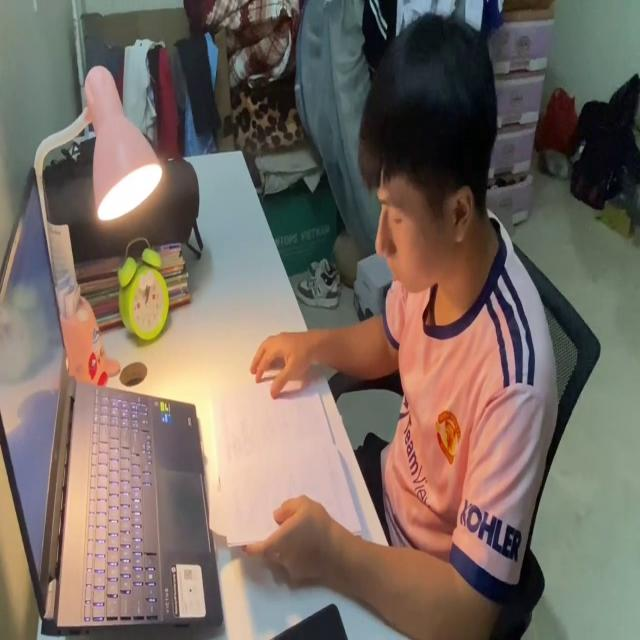book: (208, 356, 364, 564)
laptop: (0, 161, 225, 640)
phone: (274, 597, 347, 640)
student: (241, 6, 559, 640)
